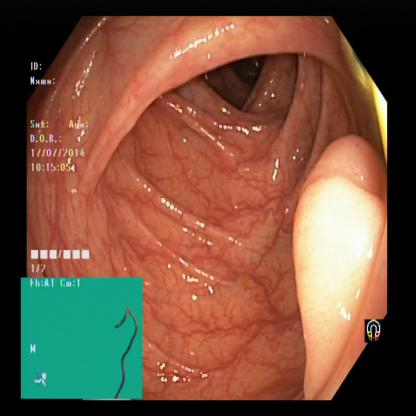Labels: (30, 53, 100, 277), (22, 277, 144, 397), (363, 318, 384, 350)
Polyps: (286, 129, 382, 313)
